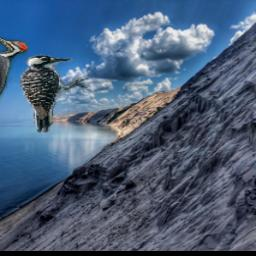Woodpecker: (18, 54, 91, 132), (0, 36, 29, 105)
